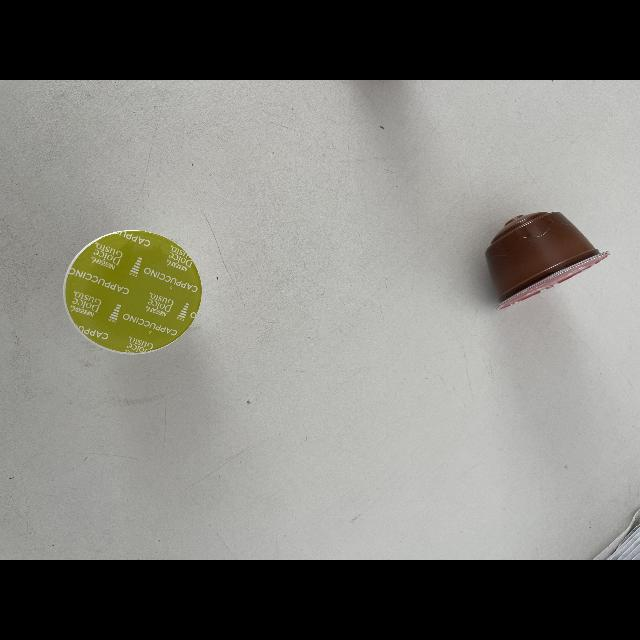intact_capsule: (56, 222, 208, 362), (478, 196, 614, 316)
